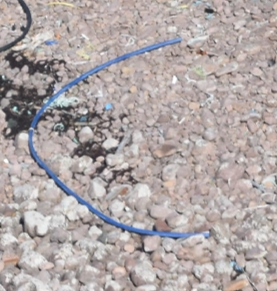tube: (24, 35, 219, 244), (1, 1, 42, 58)
